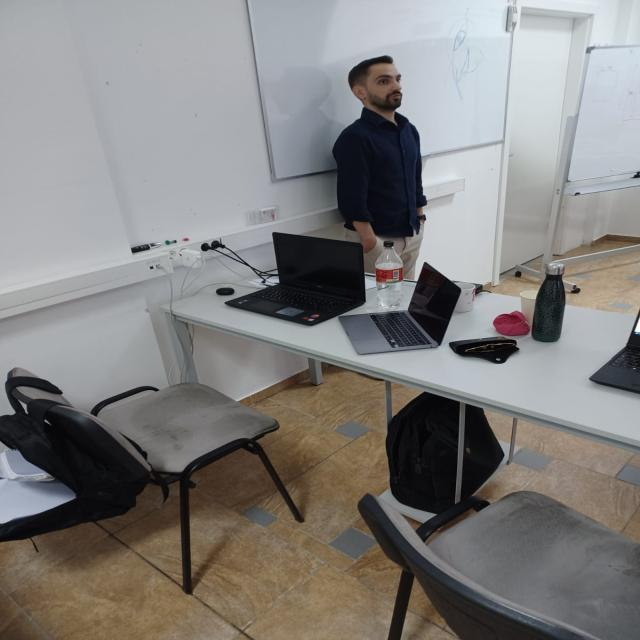Laptops_bbox: (213, 211, 487, 382)
